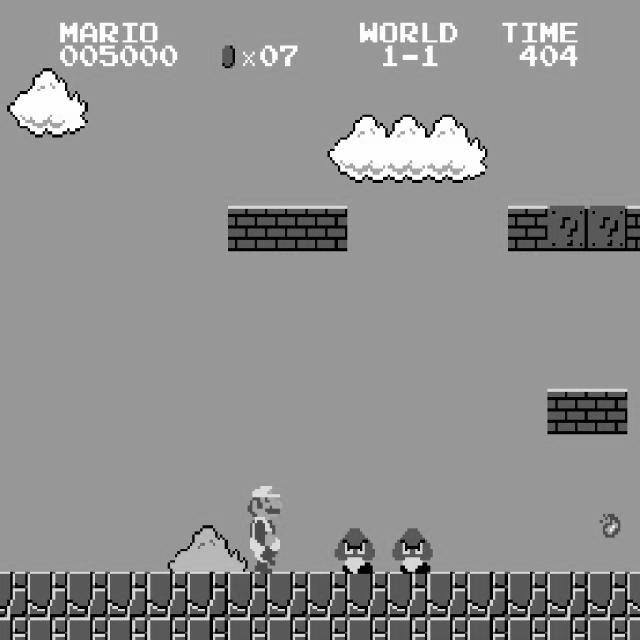1- brick_block: (547, 388, 588, 434), (587, 388, 628, 434), (227, 206, 268, 251), (267, 206, 308, 251), (307, 206, 348, 251), (507, 206, 548, 251), (627, 206, 640, 251)
13- mystery_block: (547, 206, 588, 251), (587, 206, 628, 251)
17- undestructible_block: (27, 572, 68, 618), (67, 572, 108, 618), (107, 572, 148, 618), (147, 572, 188, 618), (187, 572, 228, 618), (227, 572, 268, 618), (267, 572, 308, 618), (307, 572, 348, 618), (347, 572, 388, 618), (387, 572, 428, 618), (427, 572, 468, 618), (467, 572, 508, 618), (507, 572, 548, 618), (547, 572, 588, 618), (587, 572, 628, 618), (0, 572, 28, 618), (27, 617, 68, 640), (67, 617, 108, 640), (107, 617, 148, 640), (147, 617, 188, 640), (187, 617, 228, 640), (227, 617, 268, 640), (267, 617, 308, 640), (307, 617, 348, 640), (347, 617, 388, 640), (387, 617, 428, 640), (427, 617, 468, 640), (467, 617, 508, 640), (507, 617, 548, 640), (547, 617, 588, 640), (587, 617, 628, 640), (0, 617, 28, 640), (627, 572, 640, 618), (627, 617, 640, 640)
4- fire_mario: (242, 480, 286, 574)
5- fireball: (600, 511, 620, 537)
8- goomba: (332, 526, 375, 574), (390, 526, 433, 574)
